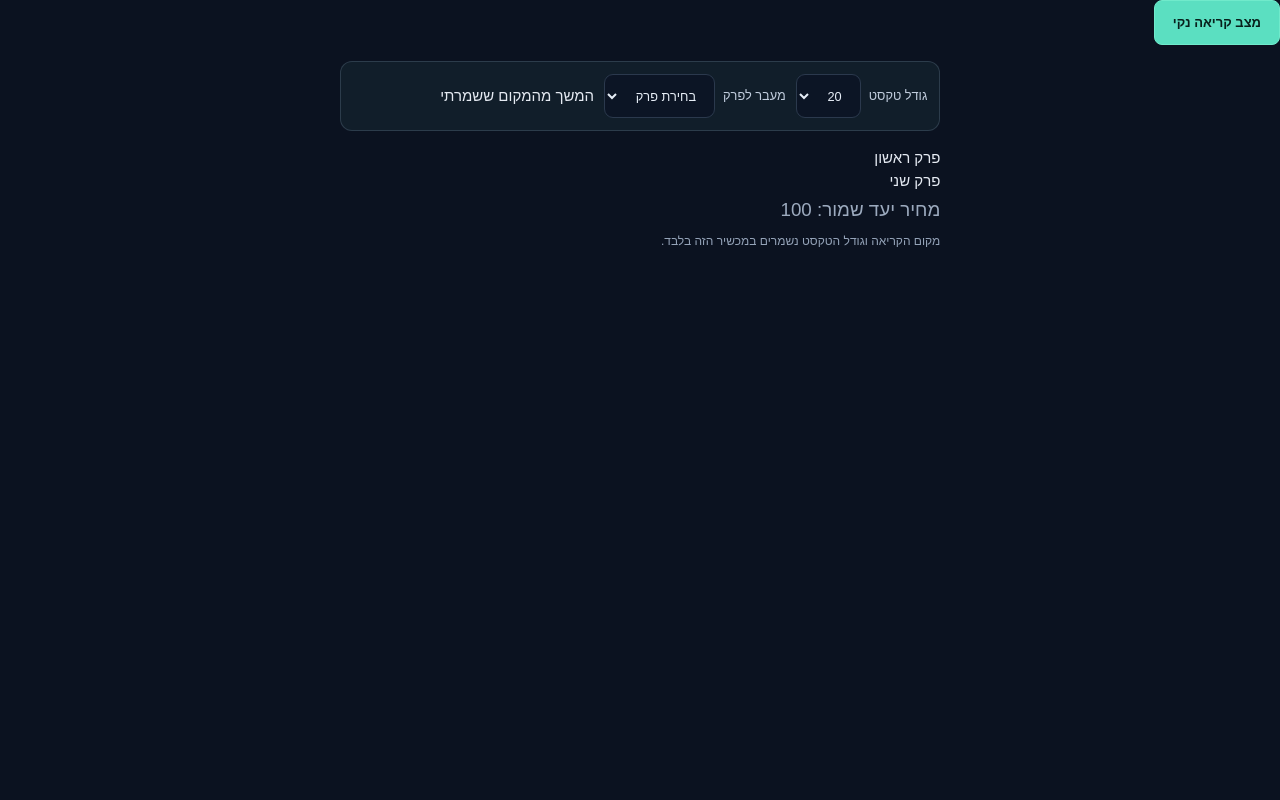
Test case: keeps one article, restores a saved chapter and font without changing financial data
Check: the dropdown named "גודל טקסט בקריאה" shows "20", box [796, 74, 861, 118]
Click the button "המשך מהמקום ששמרתי" at coordinates (517, 96), box [440, 85, 594, 107]
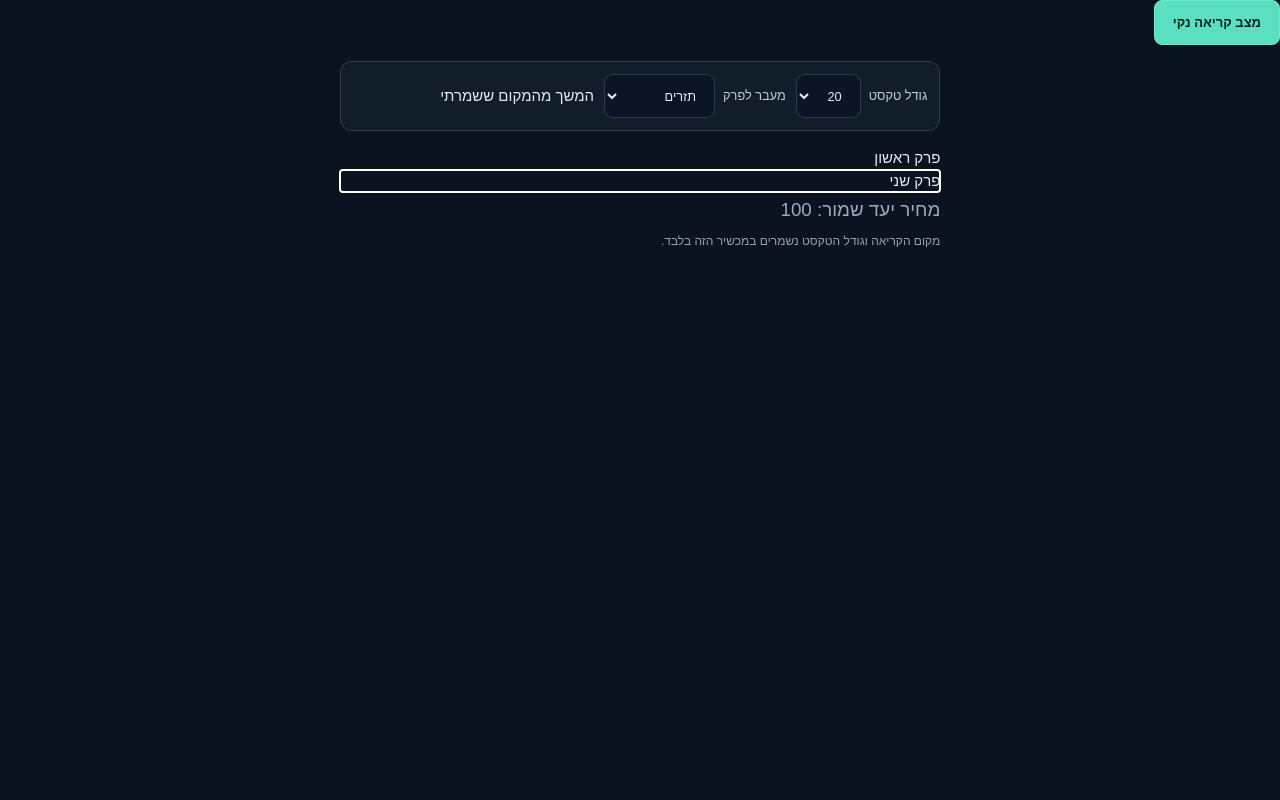
Click the button "מצב קריאה נקי" at coordinates (1217, 22), box [1154, 0, 1279, 45]
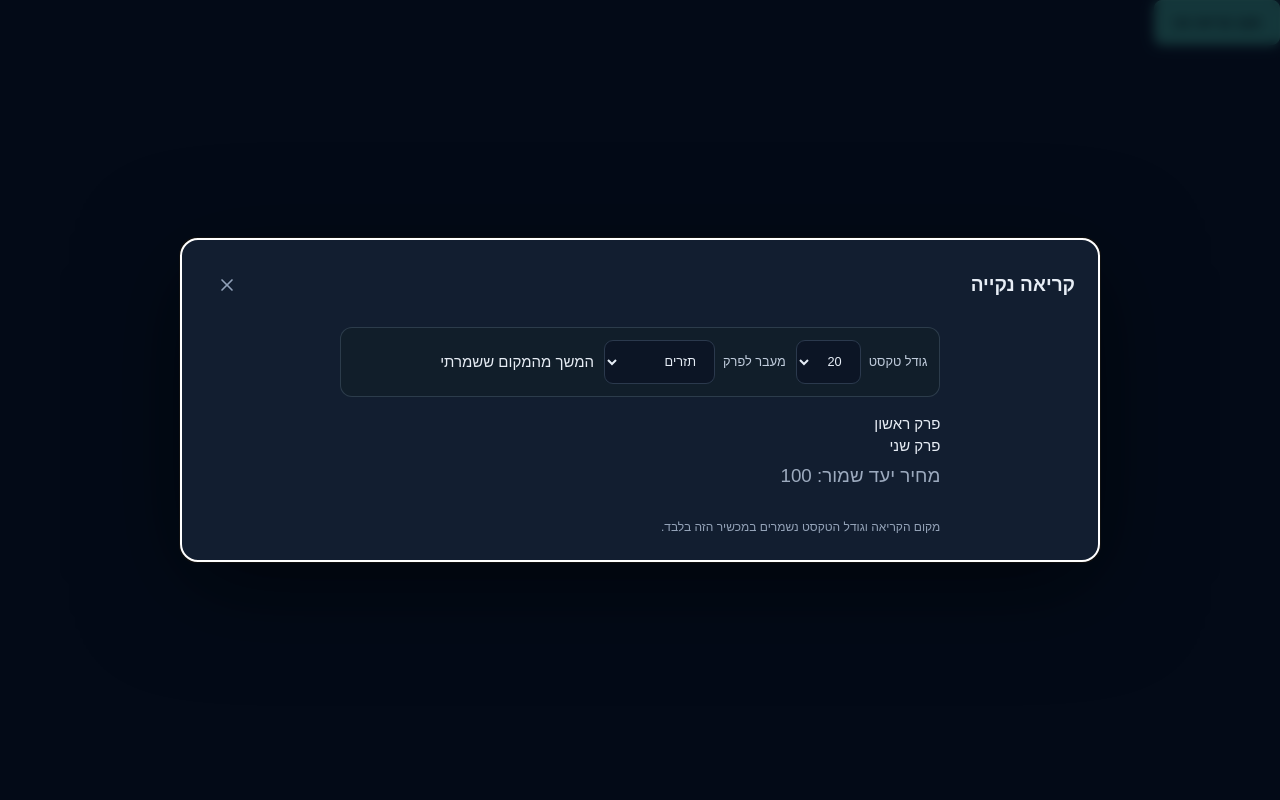
Check: the text "מחיר יעד שמור: 100" is shown once, box [780, 465, 940, 486]
Check: the dialog "קריאה נקייה" is shown, box [180, 238, 1100, 562]
Select "22" in the dropdown named "גודל טקסט בקריאה" at coordinates (828, 362), box [796, 340, 861, 384]
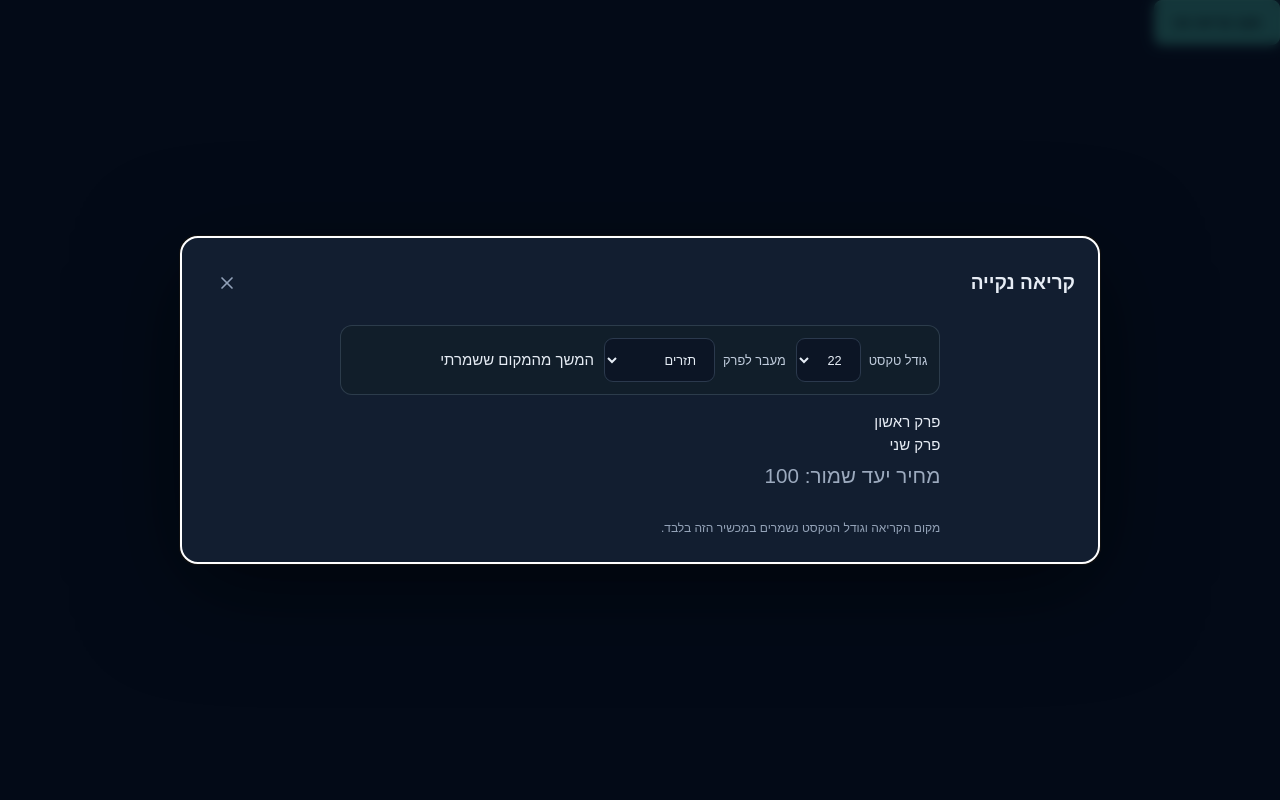
Click the button named "סגירה" at coordinates (227, 283), box [205, 261, 249, 305]
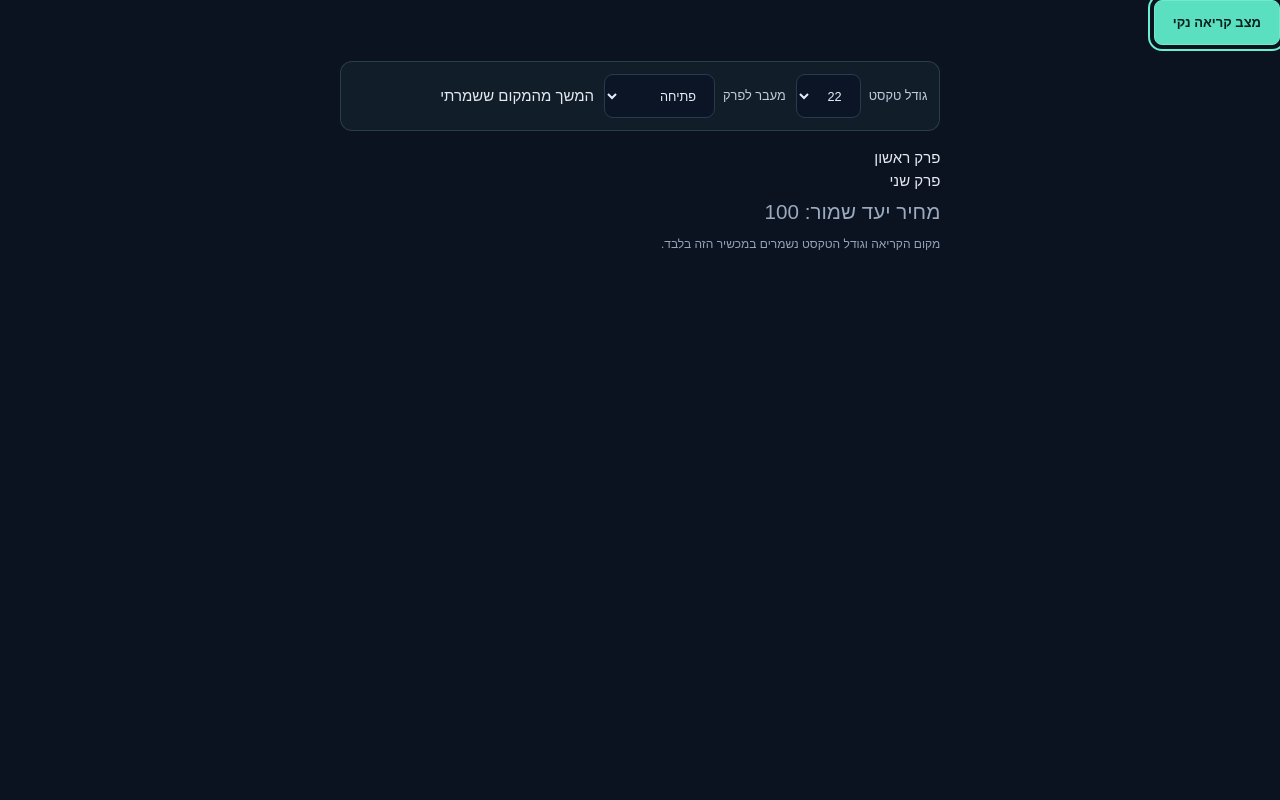
Check: the text "מחיר יעד שמור: 100" is shown, box [765, 200, 940, 223]
Check: the dialog is gone
